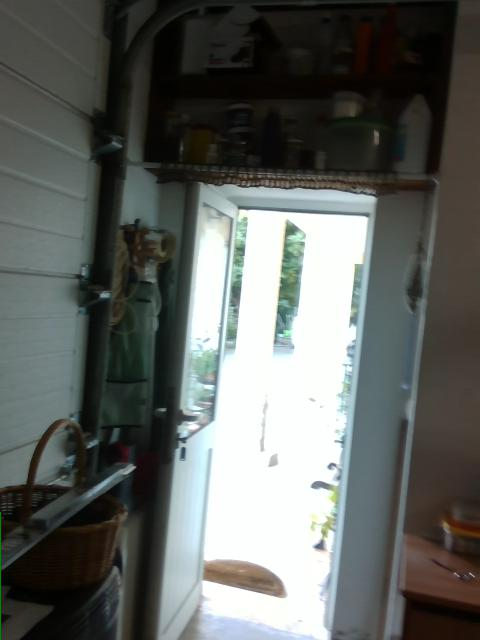door: (150, 179, 240, 639)
